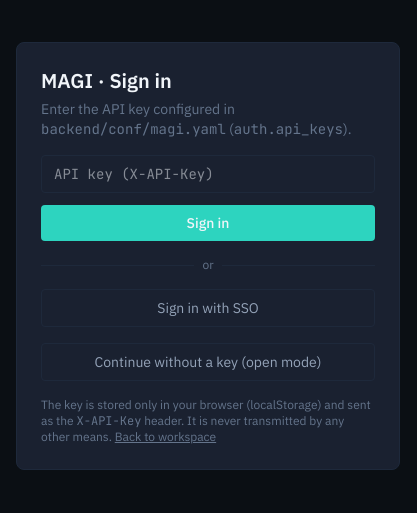
it: Login › rejects an invalid key and keeps the session keyless
The width and height of the screenshot is (417, 513).
Type "sk-bad" into the password field labelled "API key" at {"x": 208, "y": 174}, box [41, 155, 375, 193]
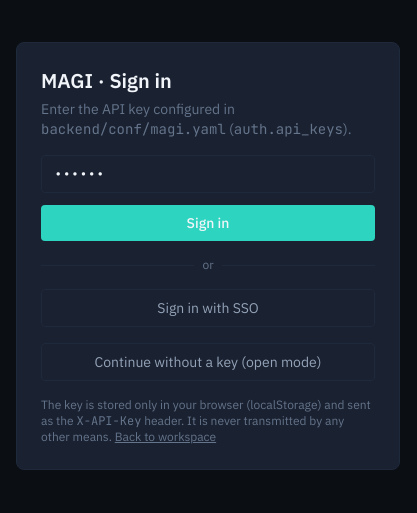
Click the button "Sign in" at {"x": 208, "y": 223}, box [41, 205, 375, 241]
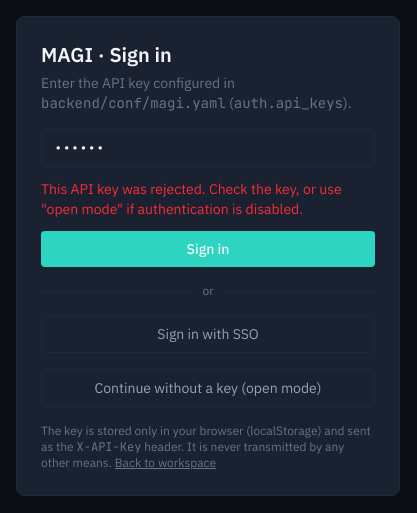
Expected: the text "rejected" is shown, [41, 180, 342, 218]
